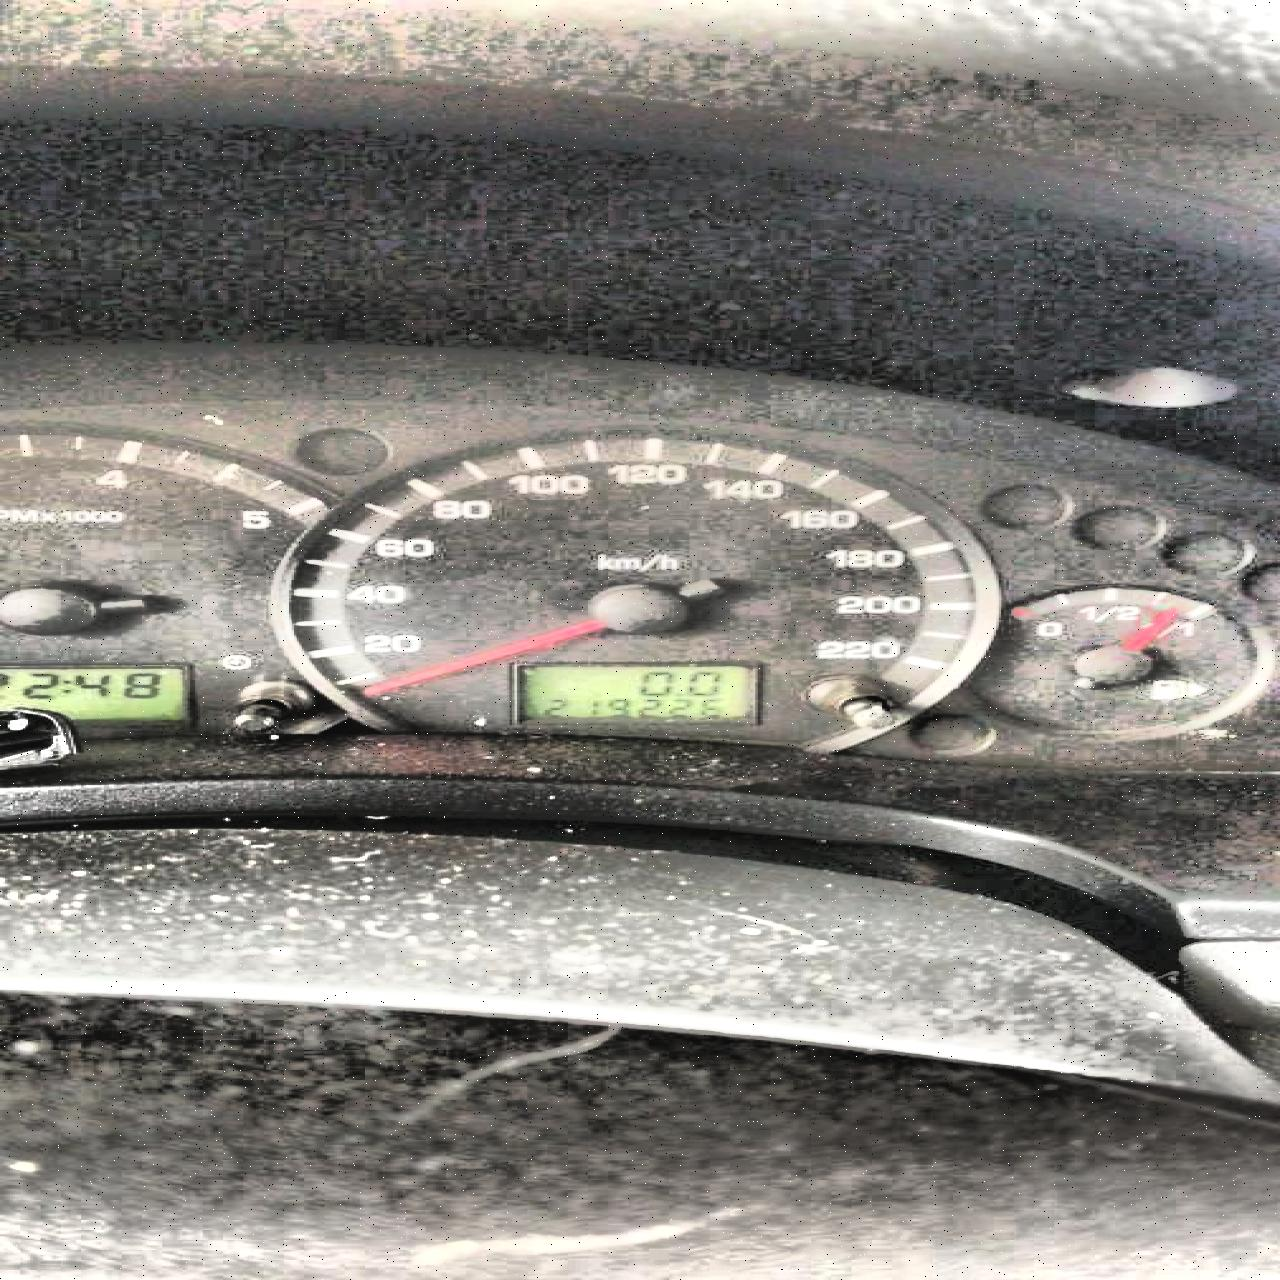-: (672, 689, 685, 696)
0: (685, 669, 720, 695), (636, 669, 672, 695)
1: (586, 697, 598, 715)
2: (539, 699, 565, 716), (636, 697, 659, 717), (667, 697, 689, 716)
6: (696, 696, 722, 716)
9: (606, 697, 628, 716)
odometer: (510, 661, 761, 726)
